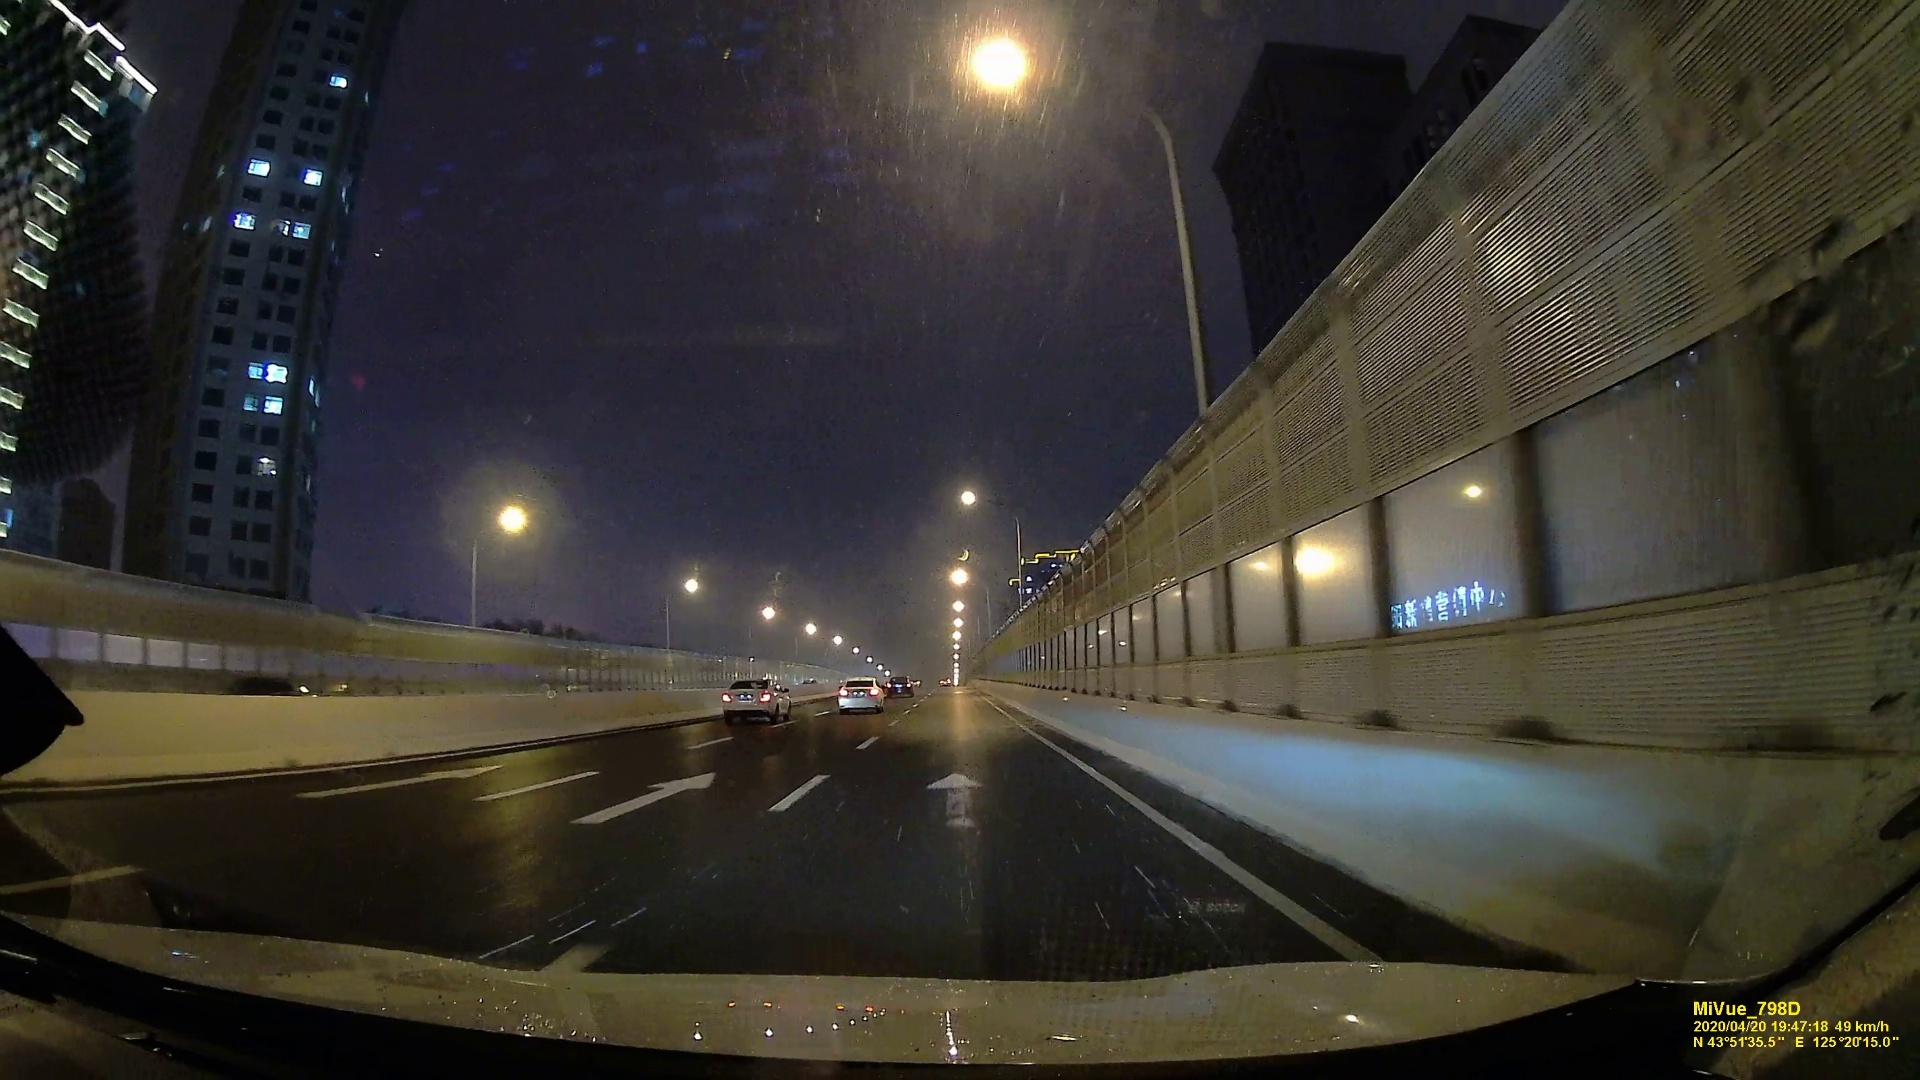vehicle: (720, 676, 789, 724), (835, 676, 882, 713)
